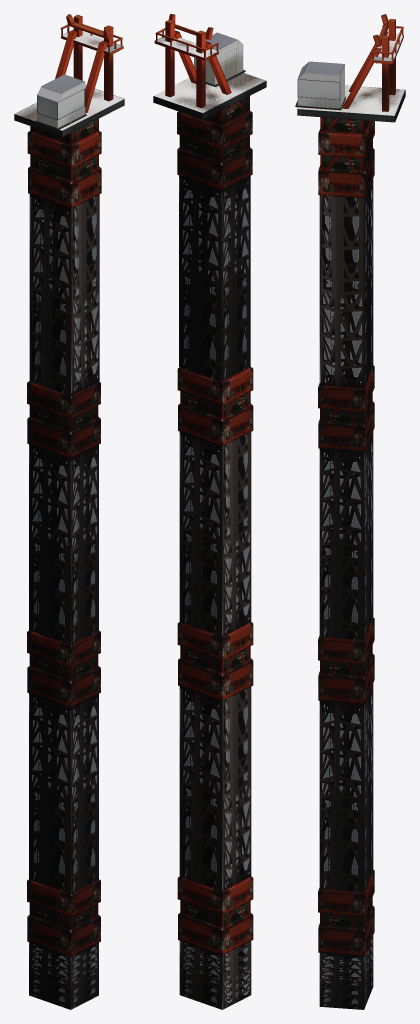
The model's file is kure-n1-dodai.obj.
3 renders of one model, left to right at view 1: azimuth 30°, elevation 25°; view 2: azimuth 210°, elevation 25°; view 3: azimuth 330°, elevation 25°, orthographic. The views are drawn at different scales.
Size of the model in its own units: 14.78 by 138 by 12.15.
1 material, 1 textured.
